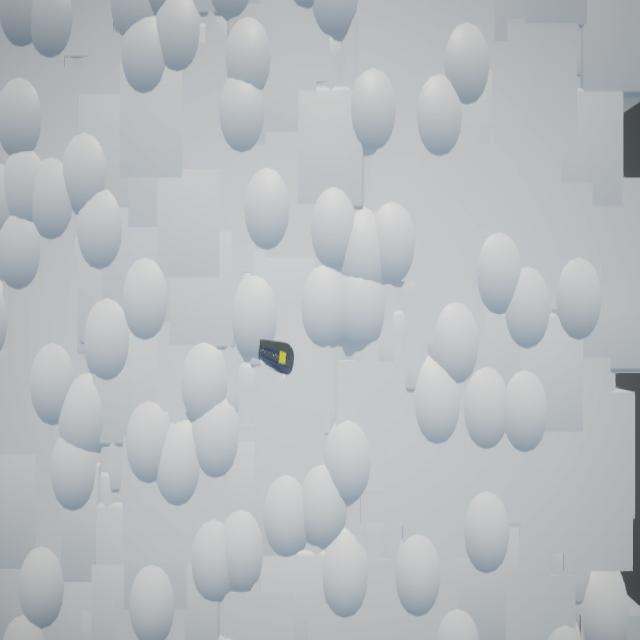handle_folk: (259, 341, 295, 377)
